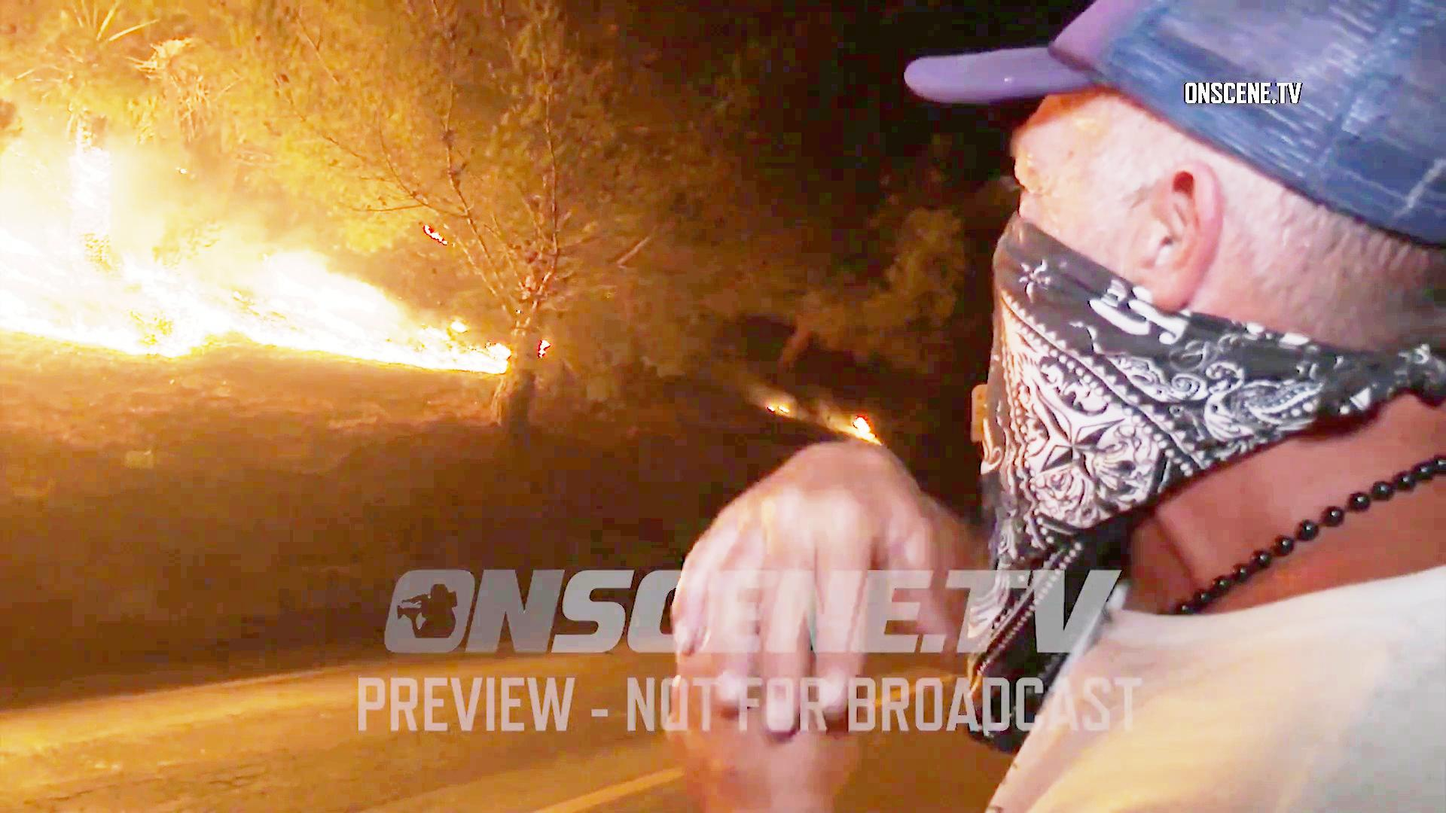fire: (2, 142, 158, 354), (240, 291, 379, 364)
